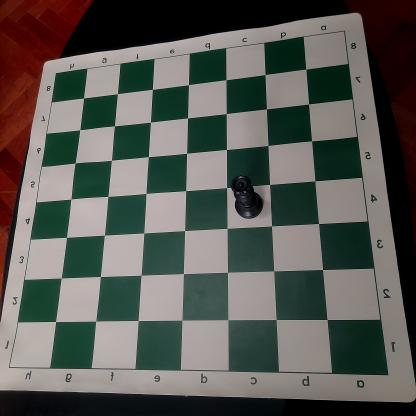black-queen: (230, 172, 265, 220)
